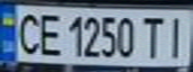0: (115, 13, 139, 60)
1: (63, 11, 84, 57)
2: (81, 12, 103, 59)
5: (100, 12, 121, 60)
C: (9, 9, 45, 56)
E: (33, 10, 63, 57)
I: (160, 12, 193, 60)
T: (139, 12, 169, 60)
